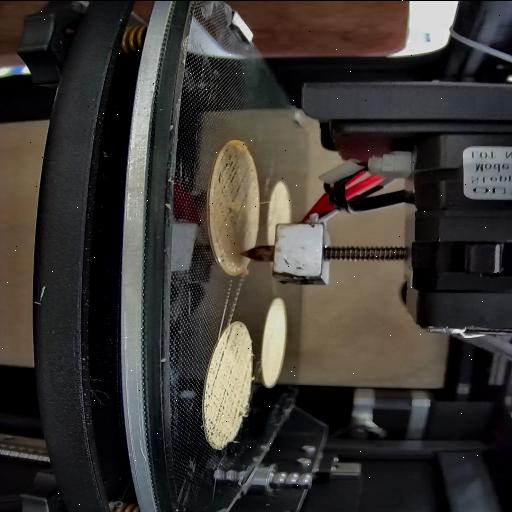under_extrusion: (204, 349, 248, 446), (217, 142, 257, 220), (222, 322, 240, 346)
